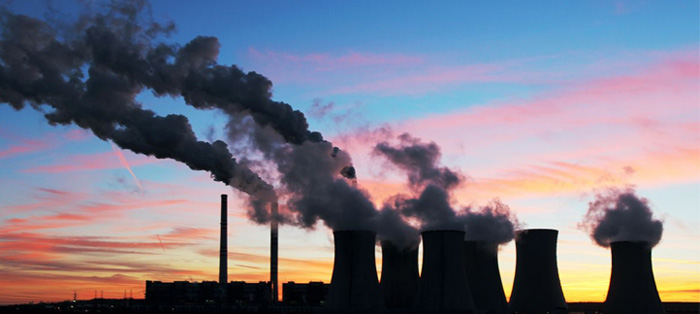dust: (113, 29, 359, 227), (272, 135, 420, 254), (396, 161, 514, 247), (591, 187, 675, 251)
